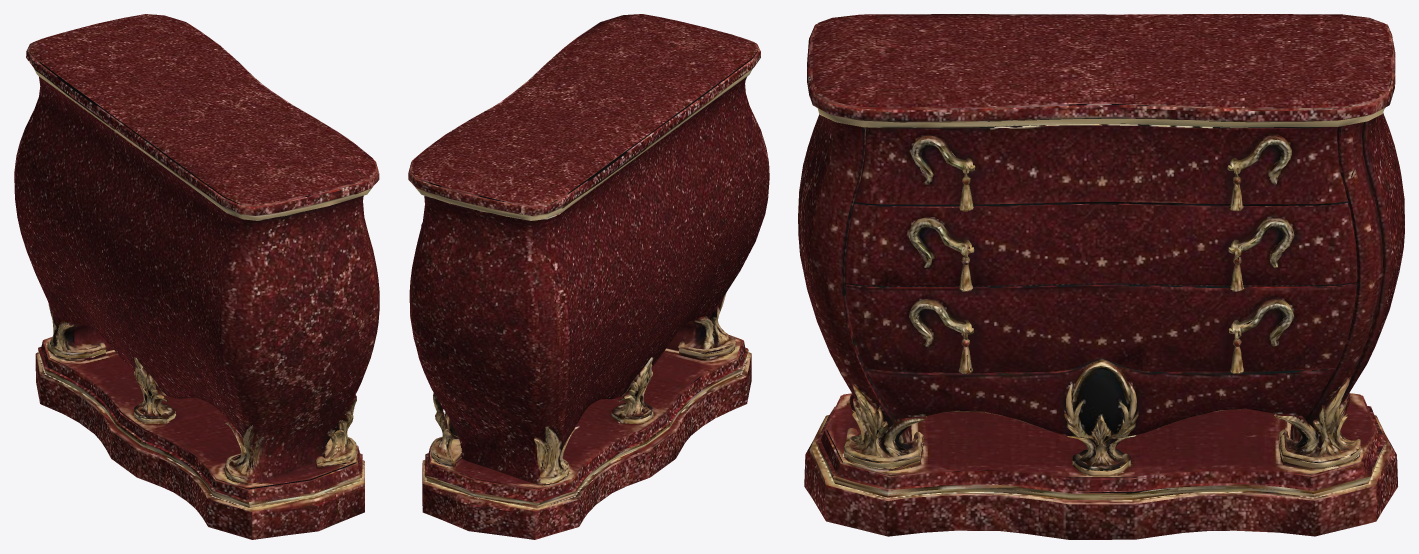
File: NX-03_dresser_game.glb
The picture shows the model from 3 angles, left to right: view 1: azimuth 30°, elevation 25°; view 2: azimuth 150°, elevation 25°; view 3: azimuth 270°, elevation 25°; orthographic projection. The views are drawn at different scales.
Parts seen in each view (by area): view 1: NX-03_dresser; view 2: NX-03_dresser; view 3: NX-03_dresser.
Part boxes in pixels (box(x1,y1,x2,y2)): NX-03_dresser: box(14, 14, 379, 539); NX-03_dresser: box(408, 14, 769, 539); NX-03_dresser: box(798, 14, 1404, 539).
Size of the model in its own units: 0.4816 by 0.8805 by 1.1.
Materials: 1 (1 with a texture image).
